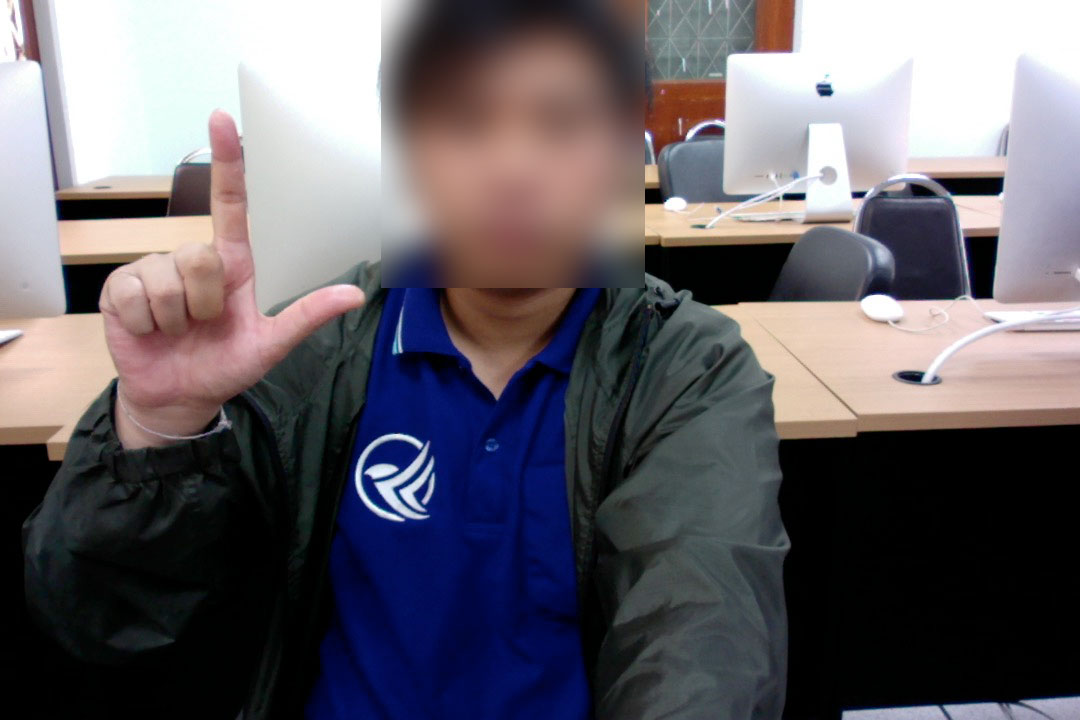lor: (76, 114, 409, 426)
